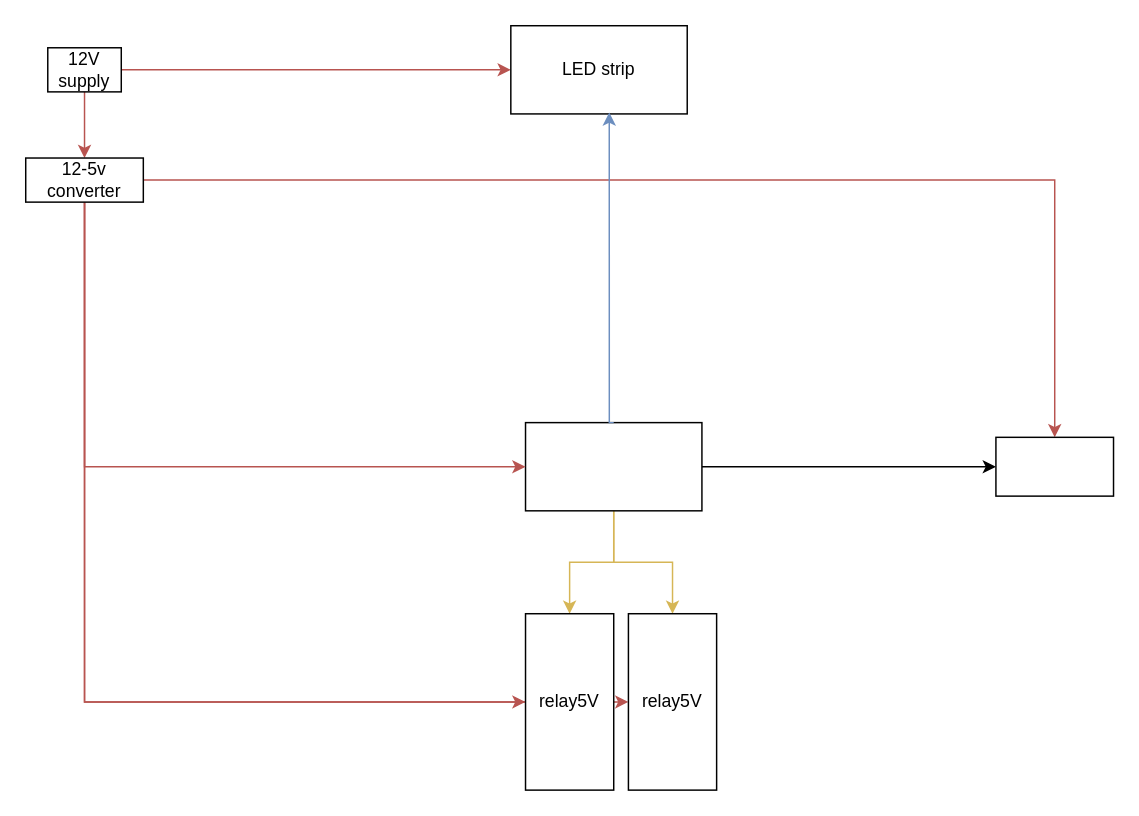
The diagram is 1139 pixels wide and 816 high, and some of its shapes have lost their labels. The shapes that lost their labels are listed below. From the top down, each one's centre as x and y in pixels, then its label:
At point (613, 466): "esp".
At point (1054, 466): "DHT11".
